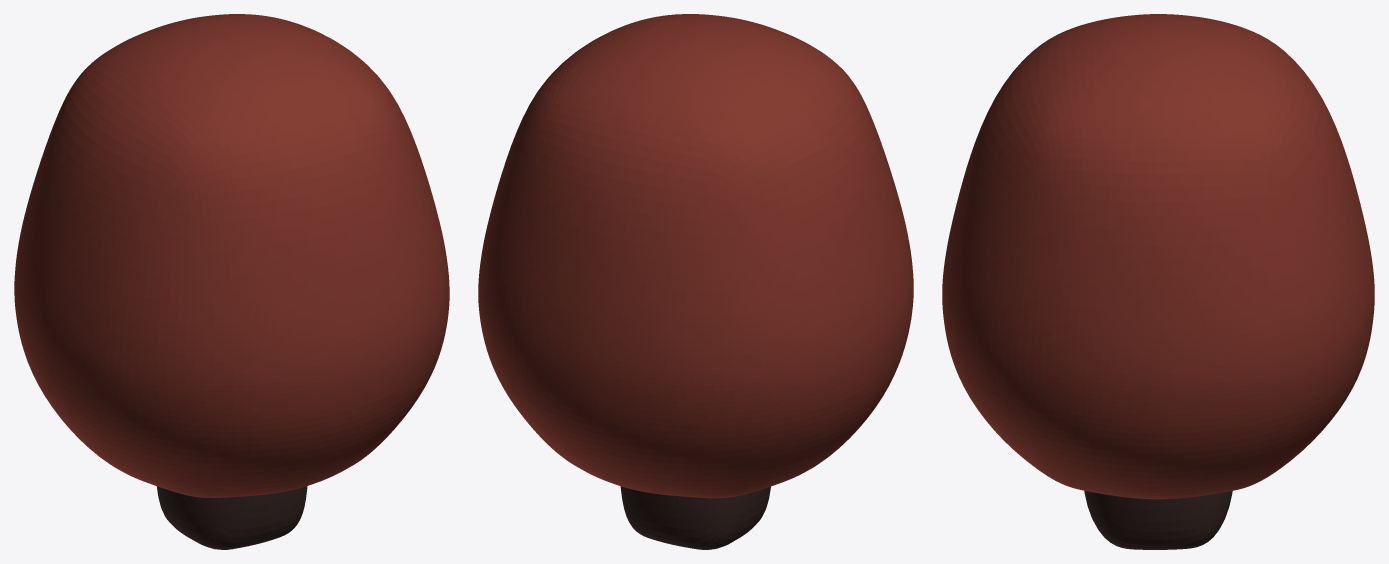
File: orangetree.fbx
3 views of the same model, side by side, from view 1: azimuth 30°, elevation 25°; view 2: azimuth 150°, elevation 25°; view 3: azimuth 270°, elevation 25° (orthographic).
Visible parts, largest first — view 1: Roundcube.019, Roundcube.020; view 2: Roundcube.019, Roundcube.020; view 3: Roundcube.019, Roundcube.020.
Boxes of the visible parts, <box> form: Roundcube.019: <box>14,14,449,497</box>; Roundcube.020: <box>156,486,307,549</box>; Roundcube.019: <box>478,14,913,498</box>; Roundcube.020: <box>620,486,770,549</box>; Roundcube.019: <box>942,14,1374,499</box>; Roundcube.020: <box>1084,490,1232,549</box>.
Size of the model in its own units: 199 by 252 by 199.
